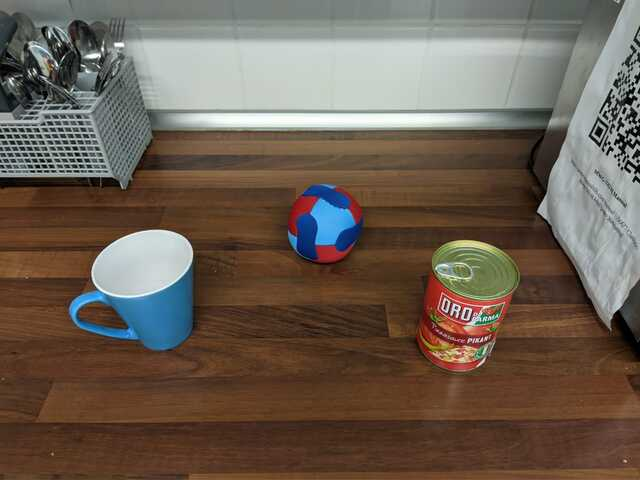005_tomato_soup_can: (417, 239, 522, 375)
025_mug: (69, 227, 196, 352)
057_racquetball: (285, 181, 363, 264)
